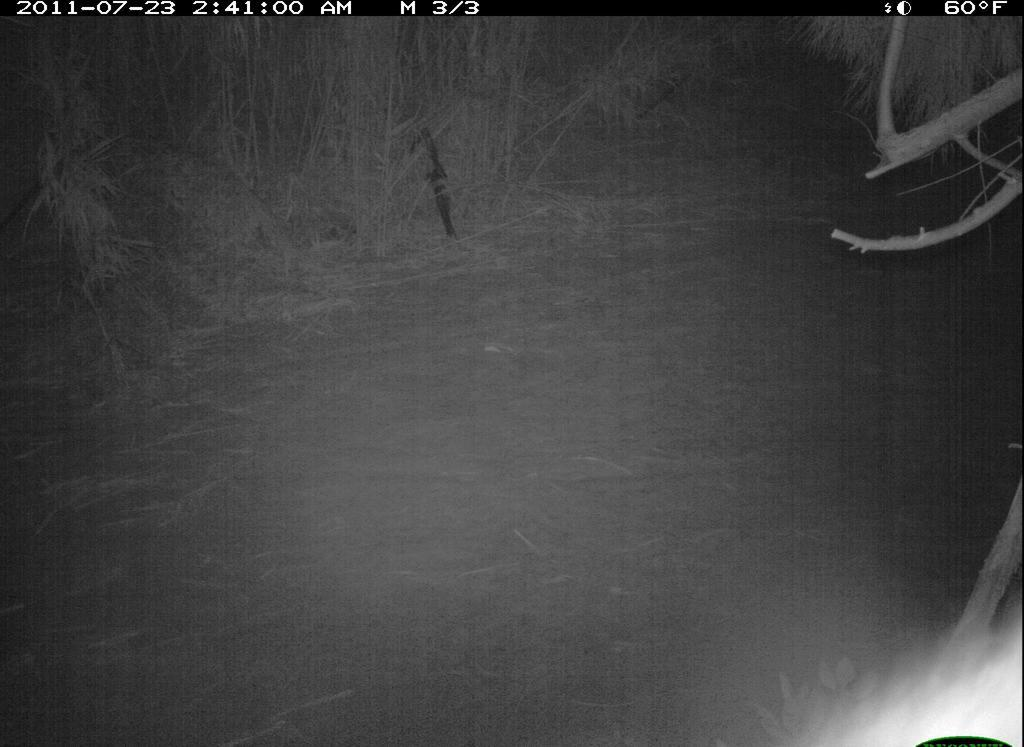raccoon: (757, 600, 1023, 747)
